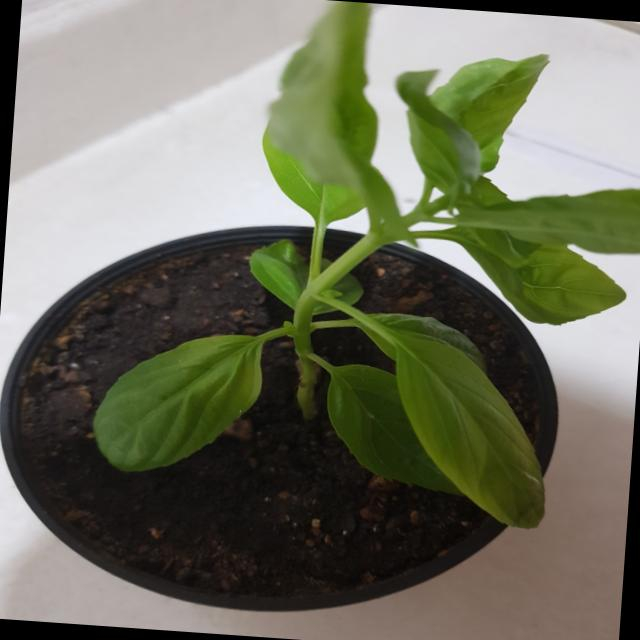Sweet Basil: (69, 0, 640, 561)
